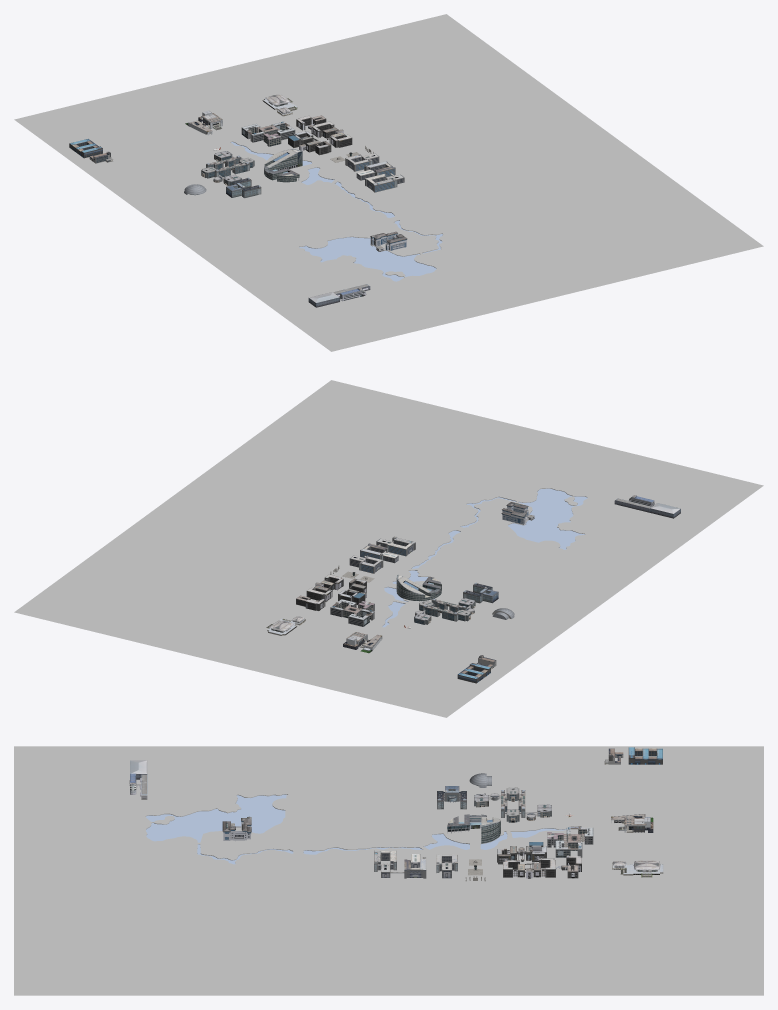
Rendered from xgd_new.FBX.
3 renders of one model, top to bottom at view 1: azimuth 30°, elevation 25°; view 2: azimuth 150°, elevation 25°; view 3: azimuth 270°, elevation 25°, orthographic. The views are drawn at different scales.
Visible parts, largest first — view 1: 001, shui, object 8, object 20, 09tushugan, 12jiaoxuelou dong, 15hanghaixueyuan, 01shixunzhongxin; view 2: 001, shui, object 8, object 20, 09tushugan, 12jiaoxuelou dong, 15hanghaixueyuan, 01shixunzhongxin; view 3: 001, shui, object 8, object 20, 12jiaoxuelou dong, 09tushugan, 01shixunzhongxin, 03tiyuguan, 02xueshengzhongxin, 15hanghaixueyuan, 17qixiang, 13shiyanlou (+2 smaller).
Part boxes in pixels (left/top/right/bottom): 001: left=14, top=14, right=763, bottom=351; shui: left=231, top=142, right=442, bottom=281; object 8: left=345, top=153, right=404, bottom=192; object 20: left=201, top=151, right=254, bottom=185; 09tushugan: left=264, top=149, right=302, bottom=182; 12jiaoxuelou dong: left=241, top=121, right=295, bottom=146; 15hanghaixueyuan: left=308, top=284, right=370, bottom=307; 01shixunzhongxin: left=69, top=139, right=112, bottom=163; 001: left=14, top=380, right=763, bottom=717; shui: left=382, top=488, right=587, bottom=627; object 8: left=349, top=536, right=415, bottom=573; object 20: left=414, top=598, right=475, bottom=624; 09tushugan: left=396, top=574, right=441, bottom=601; 12jiaoxuelou dong: left=330, top=599, right=374, bottom=626; 15hanghaixueyuan: left=614, top=495, right=680, bottom=518; 01shixunzhongxin: left=457, top=655, right=496, bottom=683; 001: left=14, top=746, right=763, bottom=995; shui: left=146, top=794, right=581, bottom=864; object 8: left=374, top=850, right=457, bottom=878; object 20: left=474, top=787, right=551, bottom=822; 12jiaoxuelou dong: left=547, top=826, right=593, bottom=857; 09tushugan: left=447, top=814, right=500, bottom=843; 01shixunzhongxin: left=604, top=747, right=662, bottom=764; 03tiyuguan: left=612, top=860, right=663, bottom=877; 02xueshengzhongxin: left=611, top=814, right=653, bottom=832; 15hanghaixueyuan: left=129, top=760, right=147, bottom=799; 17qixiang: left=222, top=816, right=251, bottom=841; 13shiyanlou: left=437, top=786, right=466, bottom=809.
Size of what is drawn, in the model's own units: 4725 by 173 by 6005.
